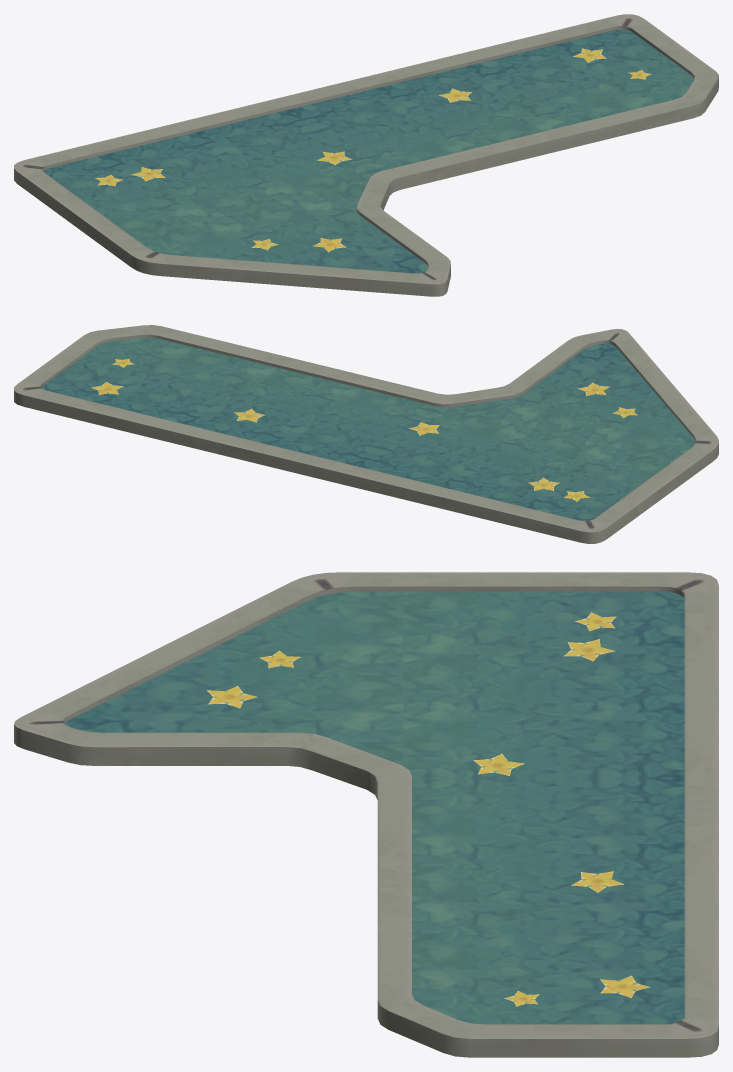
Rendered from pref_sm_city_parterre09b_snow_lv3.fbx.
3 views of the same model, one above another, from view 1: azimuth 30°, elevation 25°; view 2: azimuth 150°, elevation 25°; view 3: azimuth 270°, elevation 25° (orthographic). The views are drawn at different scales.
Parts seen in each view (by area): view 1: pref_sm_city_parterre09b_snow_lv3; view 2: pref_sm_city_parterre09b_snow_lv3; view 3: pref_sm_city_parterre09b_snow_lv3.
Boxes of the visible parts, box(x1,y1,x2,y2) form: pref_sm_city_parterre09b_snow_lv3: box(14, 14, 718, 296); pref_sm_city_parterre09b_snow_lv3: box(14, 325, 718, 543); pref_sm_city_parterre09b_snow_lv3: box(14, 572, 718, 1057).
Size of the model in its own units: 7.23 by 0.1359 by 4.62.
